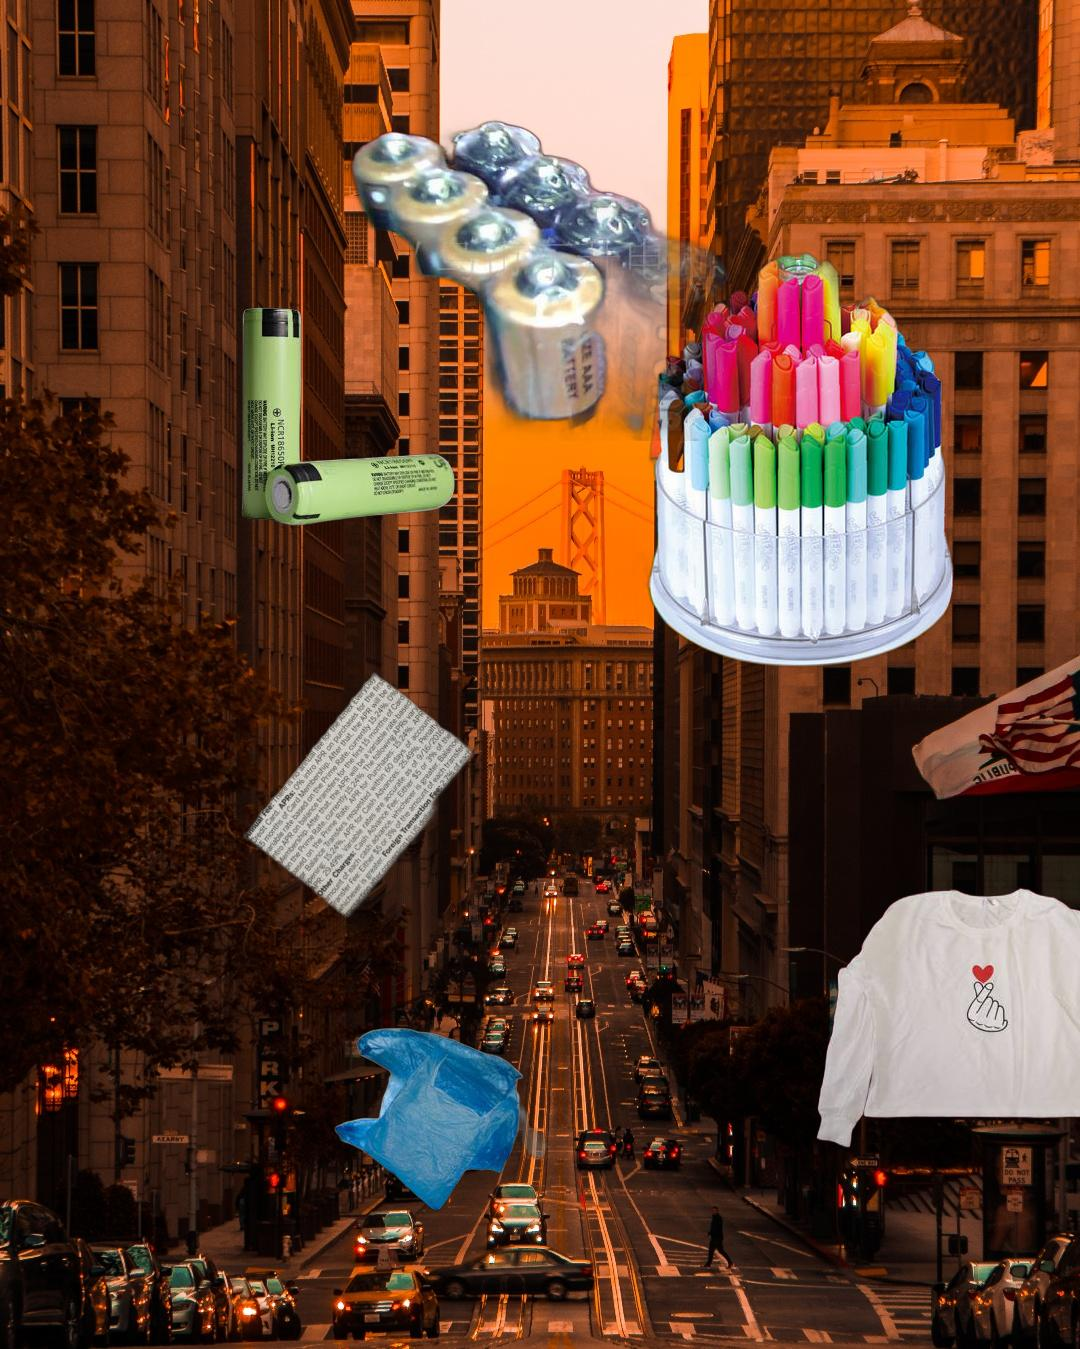battery: (347, 116, 847, 441), (233, 305, 458, 529)
clothes: (814, 883, 1080, 1152)
paper: (238, 669, 547, 933)
penholder: (631, 180, 1080, 671)
plastic-bag: (333, 1025, 553, 1212)
